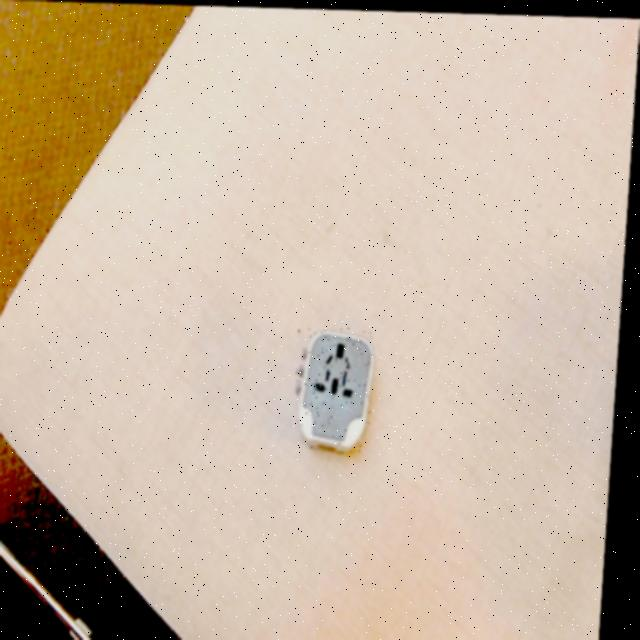adapter: (297, 324, 380, 449)
